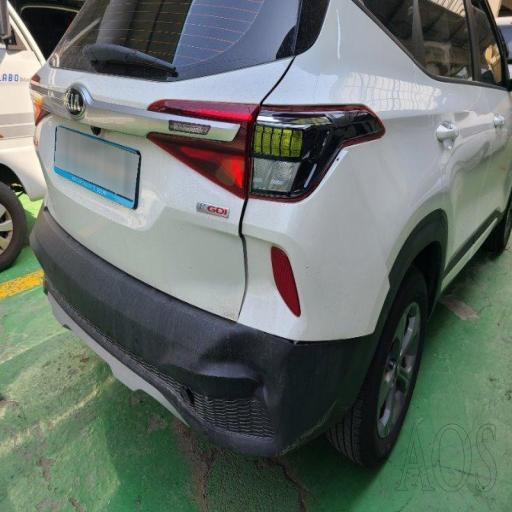dent: (128, 265, 363, 417)
